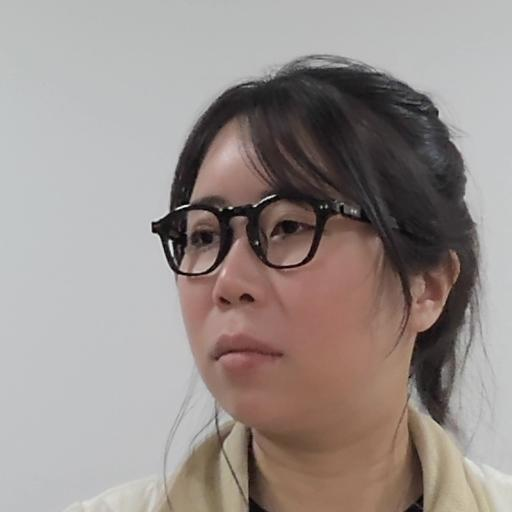no_glasses: (134, 64, 480, 425)
